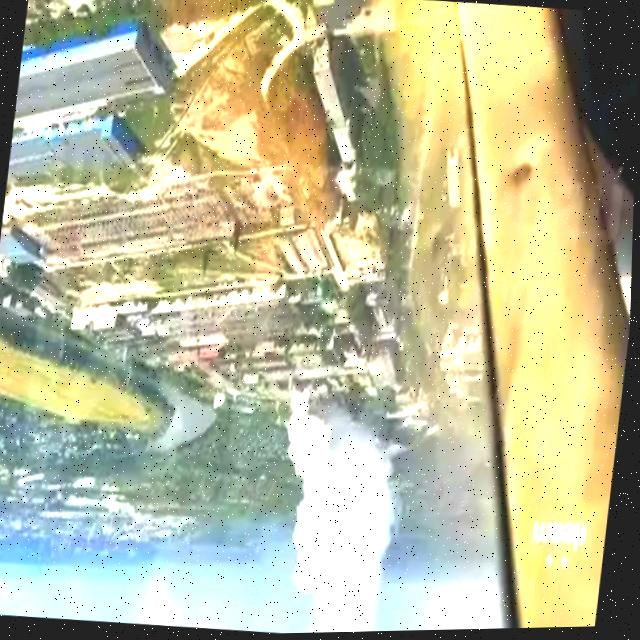Smoke: (265, 388, 421, 635)
